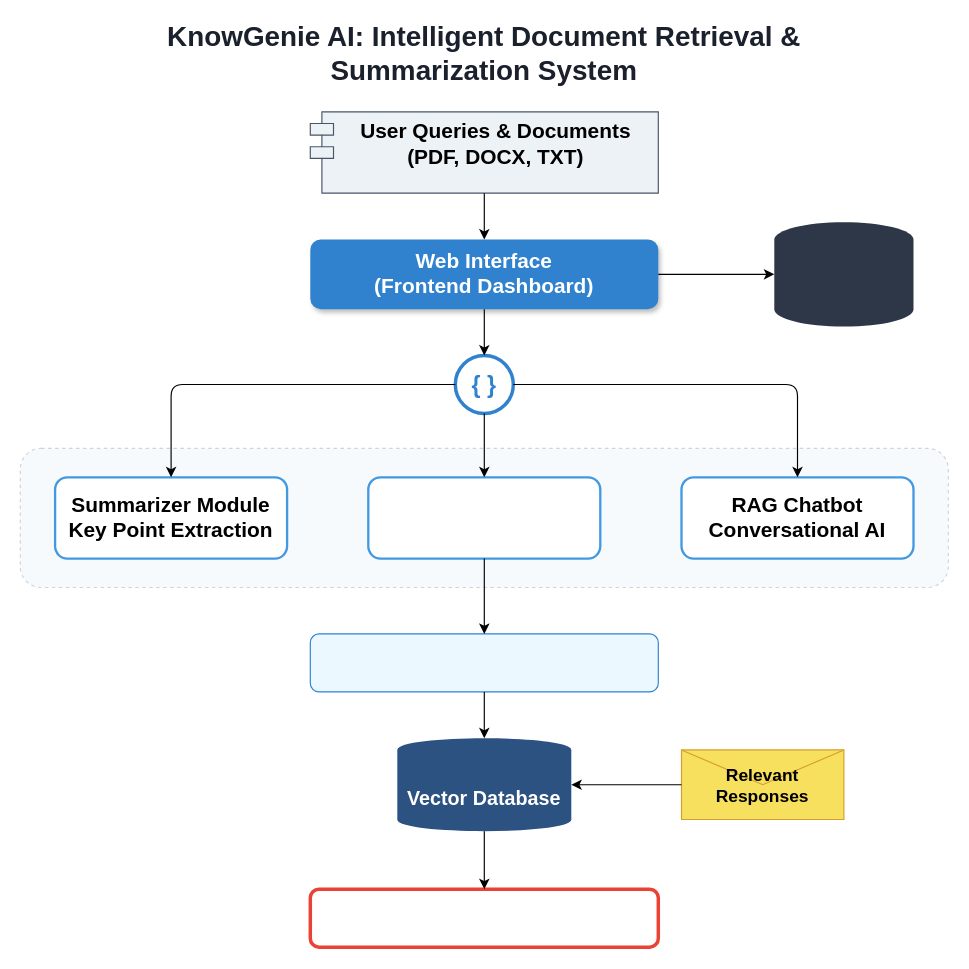
This 969x969 diagram has some shape labels left out. Each missing label, with the centre of its shape:
Backend API (FastAPI / Node.js): point 843,274
FAQ Generator Q&A Synthesis: point 484,517
Google Gemini API: point 483,917
Text Chunking & Embedding: point 483,662
